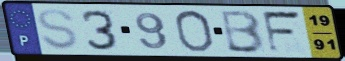3: (80, 8, 120, 51)
9: (133, 11, 168, 50)
B: (220, 9, 268, 55)
F: (260, 9, 305, 55)
O: (172, 9, 216, 54)
S: (35, 7, 80, 52)
